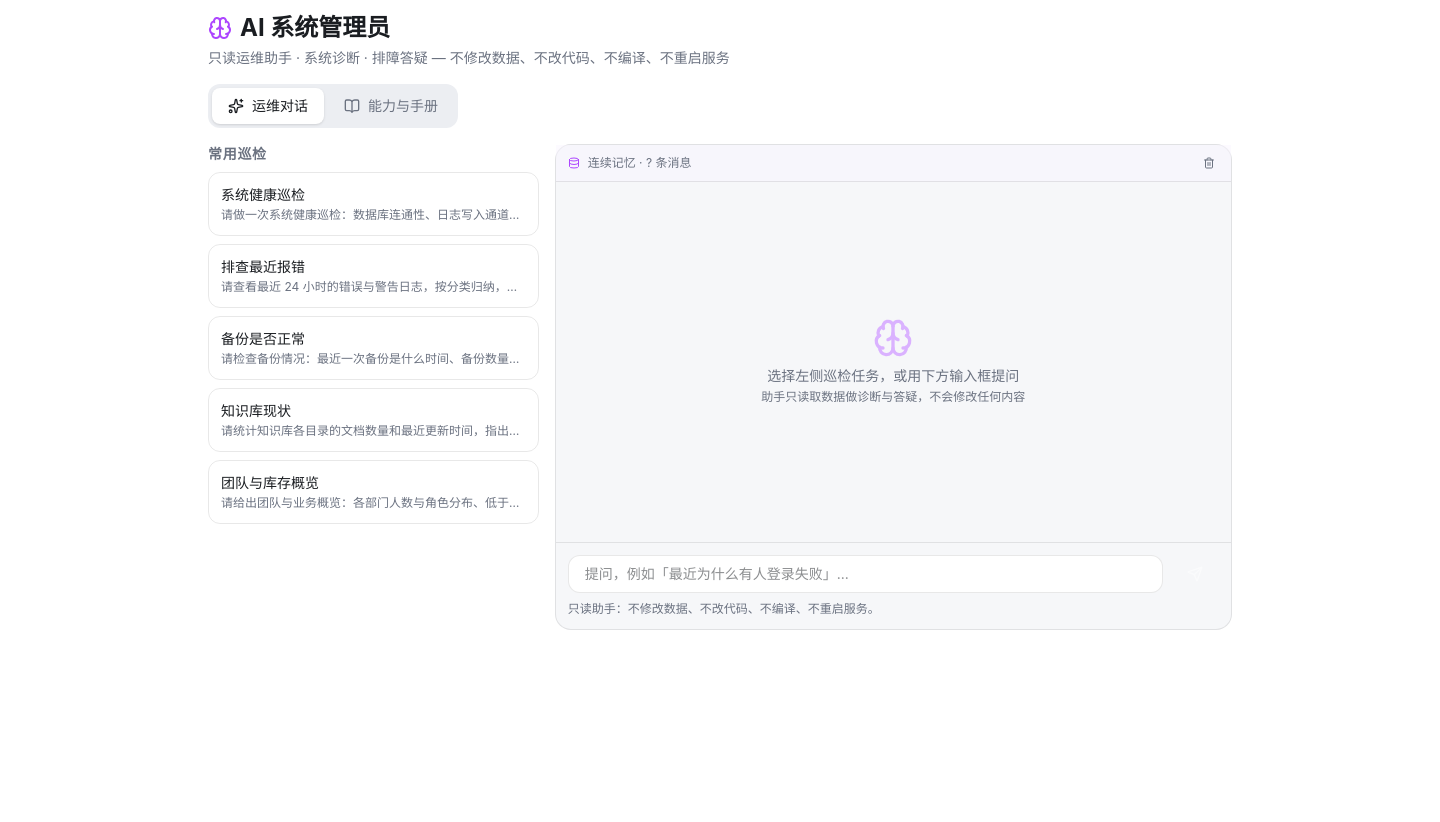
Test case: AI 系统管理员：只读运维助手 › 能力与手册 Tab 展示后端下发的工具清单与手册章节
Click the button "能力与手册": (391, 106) [328,88,454,124]
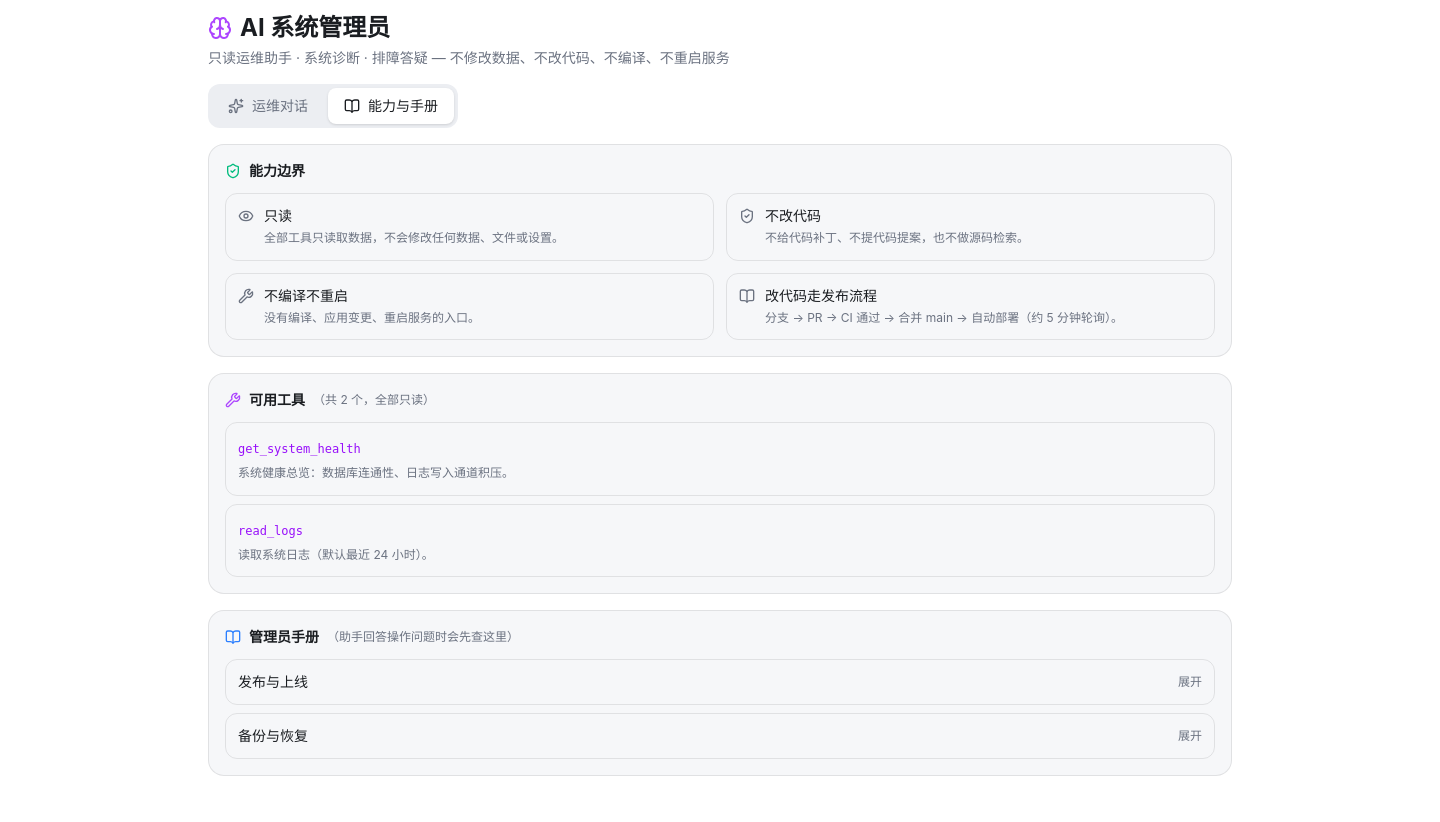
Expected: the text "get_system_health" is shown, [238,442,361,456]
Expected: the text "read_logs" is shown, [238,524,303,538]
Expected: the text "（共 2 个，全部只读）" is shown, [313,392,435,408]
